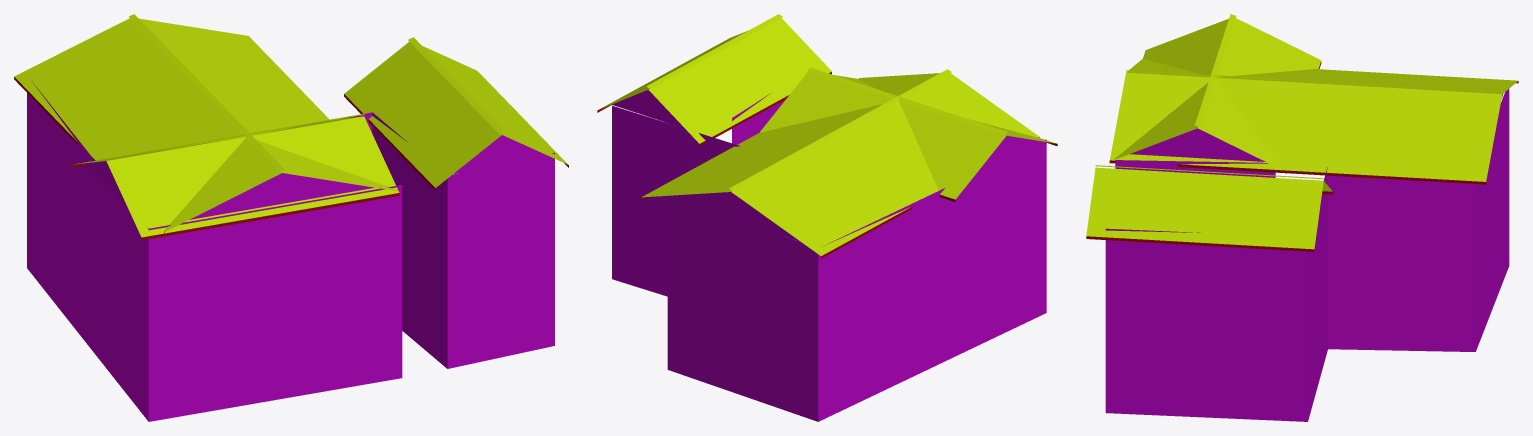
Rendered from rmc_77.glb.
The picture shows the model from 3 angles, left to right: view 1: azimuth 30°, elevation 25°; view 2: azimuth 150°, elevation 25°; view 3: azimuth 270°, elevation 25°; orthographic projection. The views are drawn at different scales.
Visible parts, largest first — view 1: rmc_77; view 2: rmc_77; view 3: rmc_77.
Part boxes in pixels (box(x1,y1,x2,y2)): rmc_77: box(14, 14, 568, 421); rmc_77: box(597, 14, 1057, 421); rmc_77: box(1086, 14, 1518, 421).
Size of the model in its own units: 18.68 by 9.75 by 17.27.
